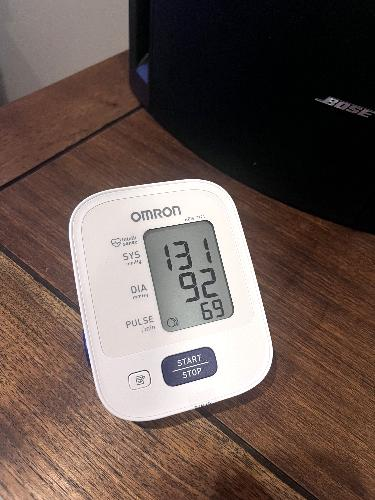bpm: (141, 214, 239, 337)
